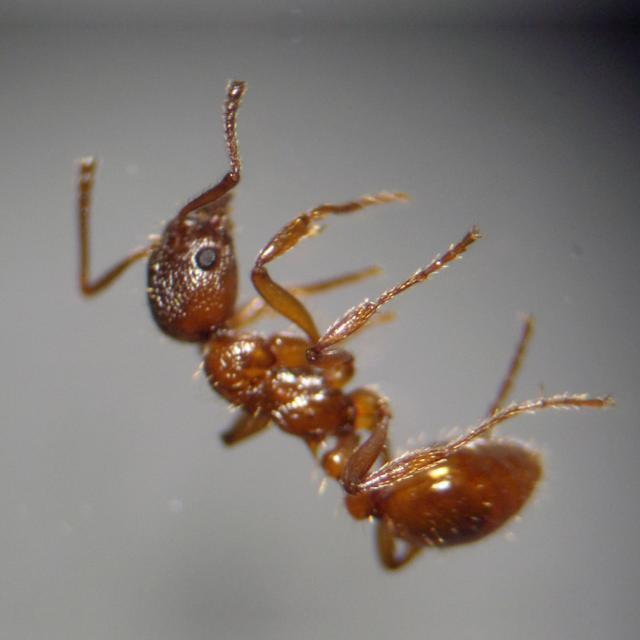Myrmica: (100, 156, 582, 592)
